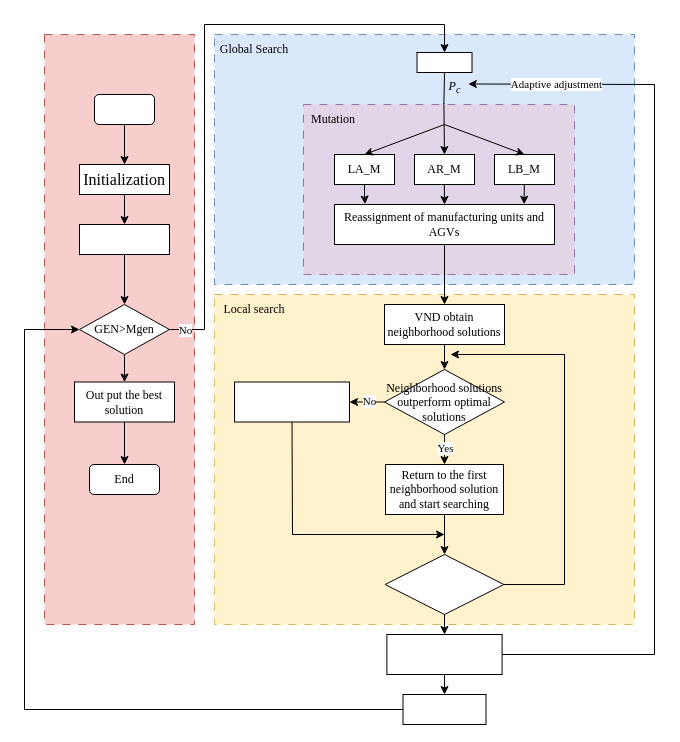
The diagram is 680 pixels wide and 742 high, and some of its shapes have lost their labels. The box of each missing label's shape, as (x1, y1, x2, y2) in pixels:
Gen += 1: (402, 694, 486, 724)
Search for the next neighborhood: (234, 381, 350, 422)
Select: (416, 52, 472, 72)
Start: (94, 94, 154, 124)
The last neighborhood？: (384, 554, 504, 614)
Training DQN: (386, 634, 502, 674)
